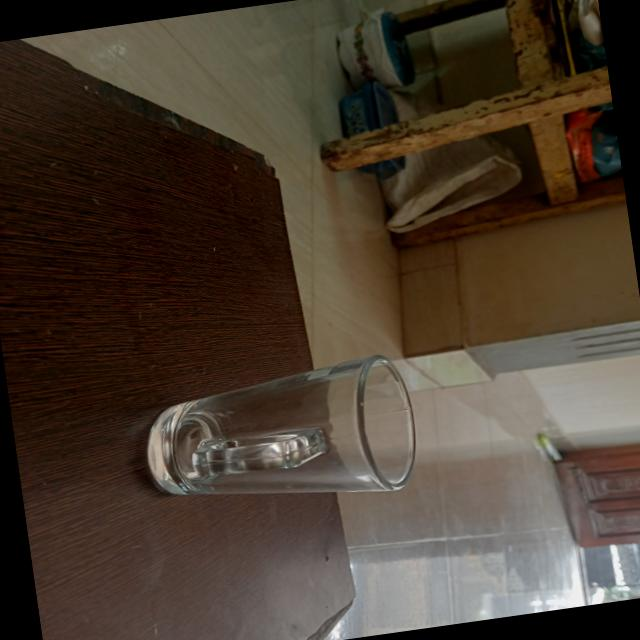glass-VX4N: (126, 350, 424, 526)
